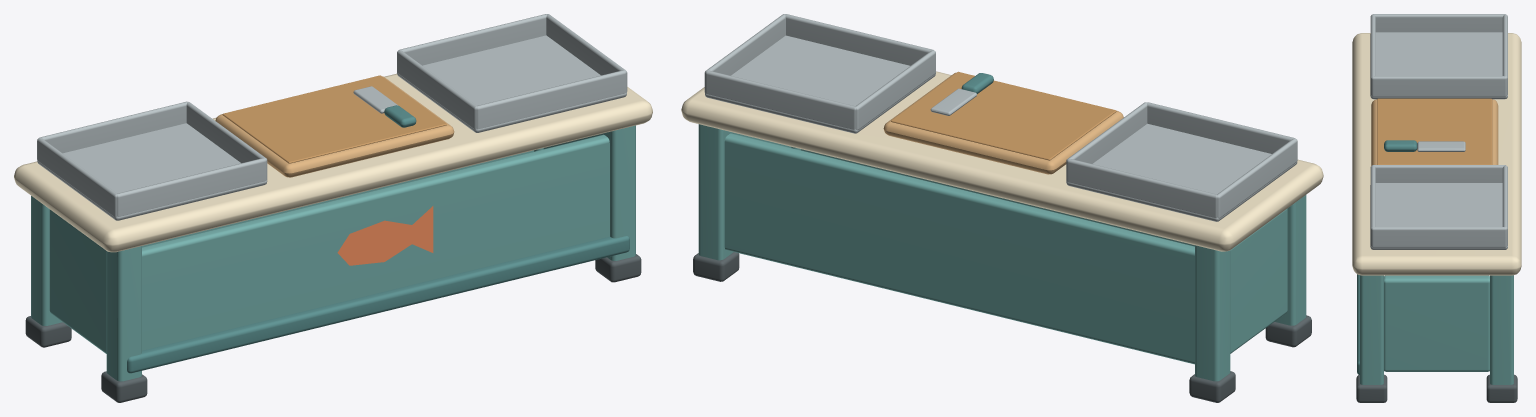
File: ManualSalmonWorkbench.fbx
The picture shows the model from 3 angles, left to right: view 1: azimuth 30°, elevation 25°; view 2: azimuth 150°, elevation 25°; view 3: azimuth 270°, elevation 25°; orthographic projection. The views are drawn at different scales.
Parts seen in each view (by area): view 1: FrontPanel, Countertop, LowerRail, CuttingSurface, InputTray_Base, OutputTray_Base, SidePanel, Leg, OutputTray_Rim, InputTray_Rim, CuttingBoard, Leg.002 (+13 smaller); view 2: BackPanel, Countertop, CuttingSurface, OutputTray_Base, InputTray_Base, SidePanel, Leg.001, OutputTray_Rim.001, InputTray_Rim.001, Leg.003, CuttingBoard, InputTray_Rim (+11 smaller); view 3: Countertop, SidePanel.001, CuttingSurface, InputTray_Base, OutputTray_Base, OutputTray_Side.001, InputTray_Side.001, Leg.002, Leg.003, InputTray_Side, OutputTray_Side, CuttingBoard (+9 smaller).
Boxes of the visible parts, box(x1,y1,x2,y2) form: FrontPanel: box(142, 134, 609, 350); Countertop: box(14, 73, 652, 252); LowerRail: box(127, 236, 629, 373); CuttingSurface: box(222, 75, 446, 163); InputTray_Base: box(37, 123, 267, 220); OutputTray_Base: box(397, 35, 626, 132); SidePanel: box(49, 209, 106, 353); Leg: box(106, 246, 141, 381); OutputTray_Rim: box(476, 70, 626, 129); InputTray_Rim: box(117, 158, 266, 216); CuttingBoard: box(215, 76, 454, 177); Leg.002: box(600, 125, 635, 260); BackPanel: box(724, 133, 1194, 364); Countertop: box(681, 71, 1323, 251); CuttingSurface: box(891, 71, 1116, 160); OutputTray_Base: box(705, 35, 935, 133); InputTray_Base: box(1066, 123, 1297, 221); SidePanel: box(1230, 208, 1287, 353); Leg.001: box(1195, 245, 1230, 381); OutputTray_Rim.001: box(705, 70, 855, 129); InputTray_Rim.001: box(1067, 159, 1217, 217); Leg.003: box(698, 124, 733, 260); CuttingBoard: box(883, 72, 1123, 174); InputTray_Rim: box(1146, 102, 1295, 153); Countertop: box(1352, 33, 1521, 275); SidePanel.001: box(1384, 275, 1489, 371); CuttingSurface: box(1377, 98, 1492, 164); InputTray_Base: box(1370, 32, 1507, 99); OutputTray_Base: box(1370, 183, 1507, 249); OutputTray_Side.001: box(1371, 227, 1507, 247); InputTray_Side.001: box(1371, 76, 1507, 96); Leg.002: box(1360, 275, 1383, 384); Leg.003: box(1490, 275, 1513, 384); InputTray_Side: box(1372, 14, 1505, 32); OutputTray_Side: box(1372, 165, 1505, 182); CuttingBoard: box(1371, 99, 1498, 165).
Size of the model in its own units: 360 by 127 by 112.
